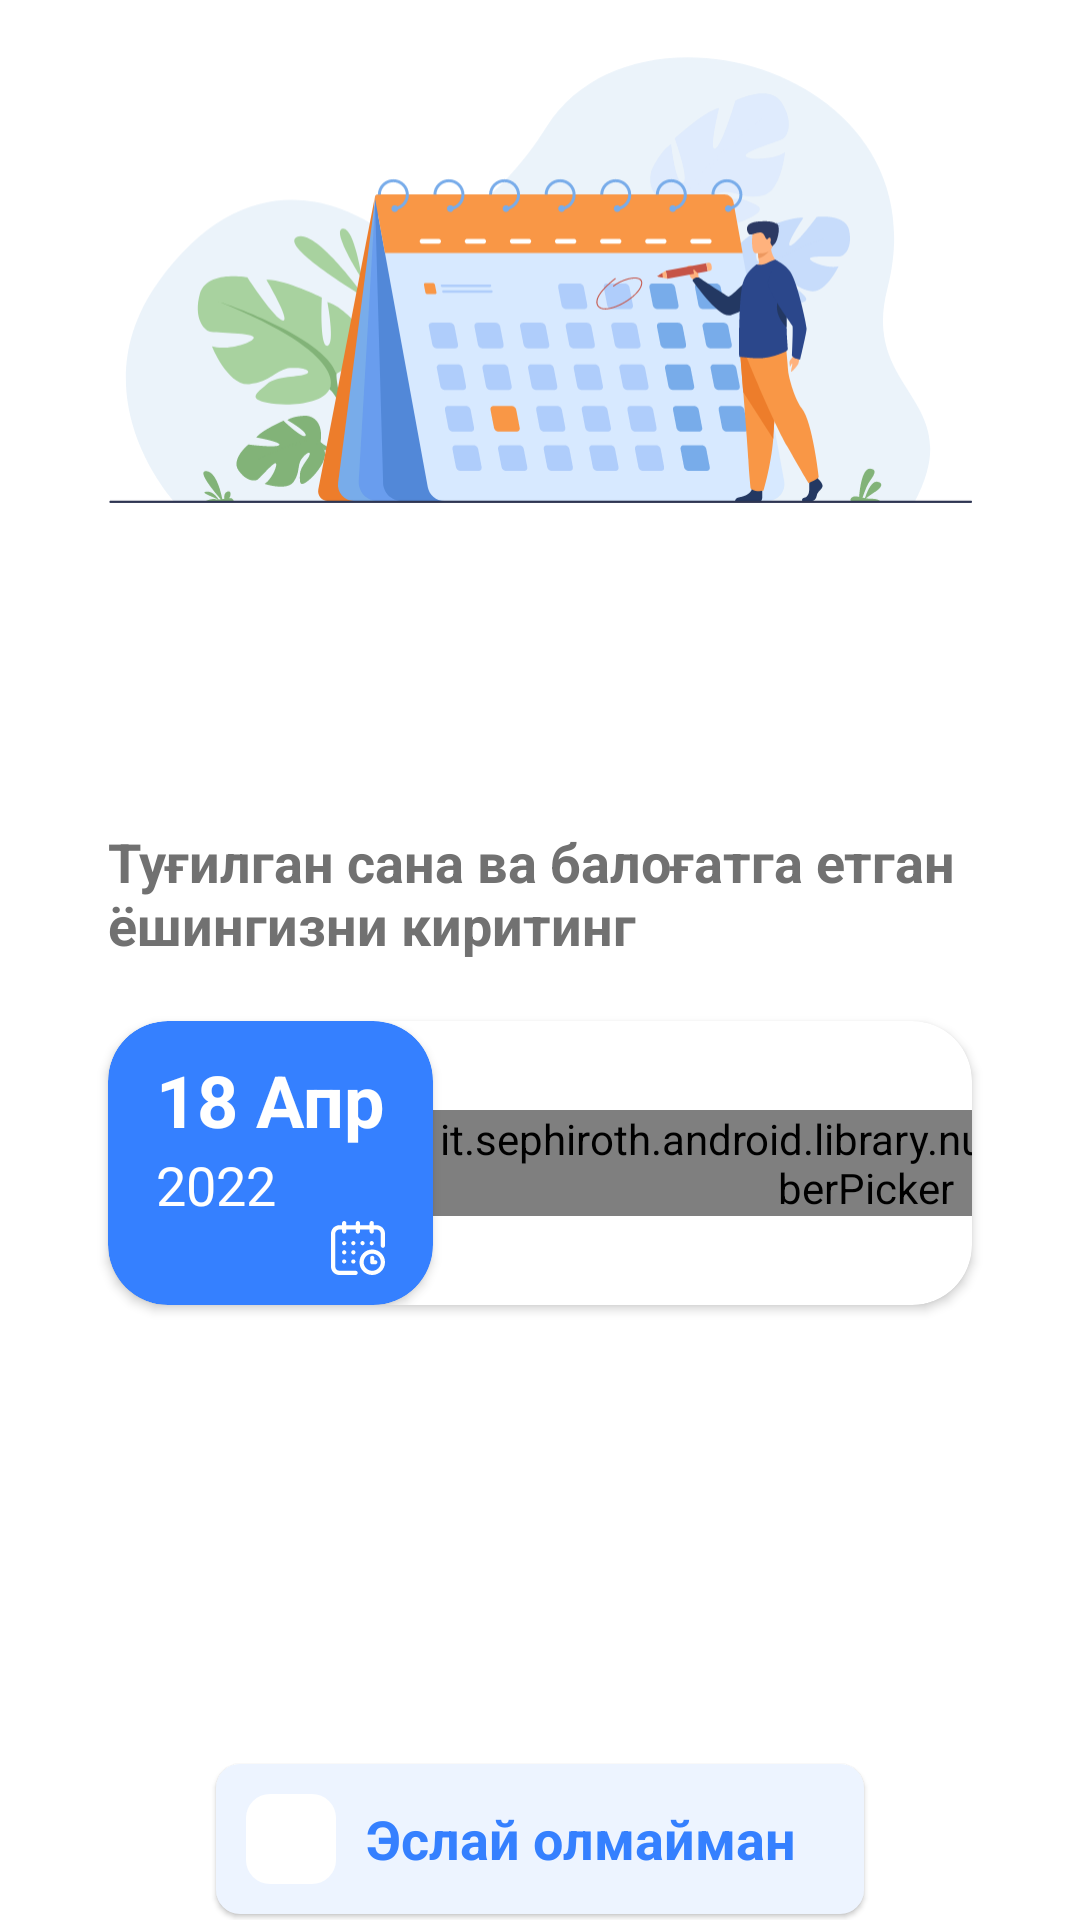

Icons on this 1080 x 1920 Android screen, each with the point to tap as [x,y]:
calendar: [358,1248]
